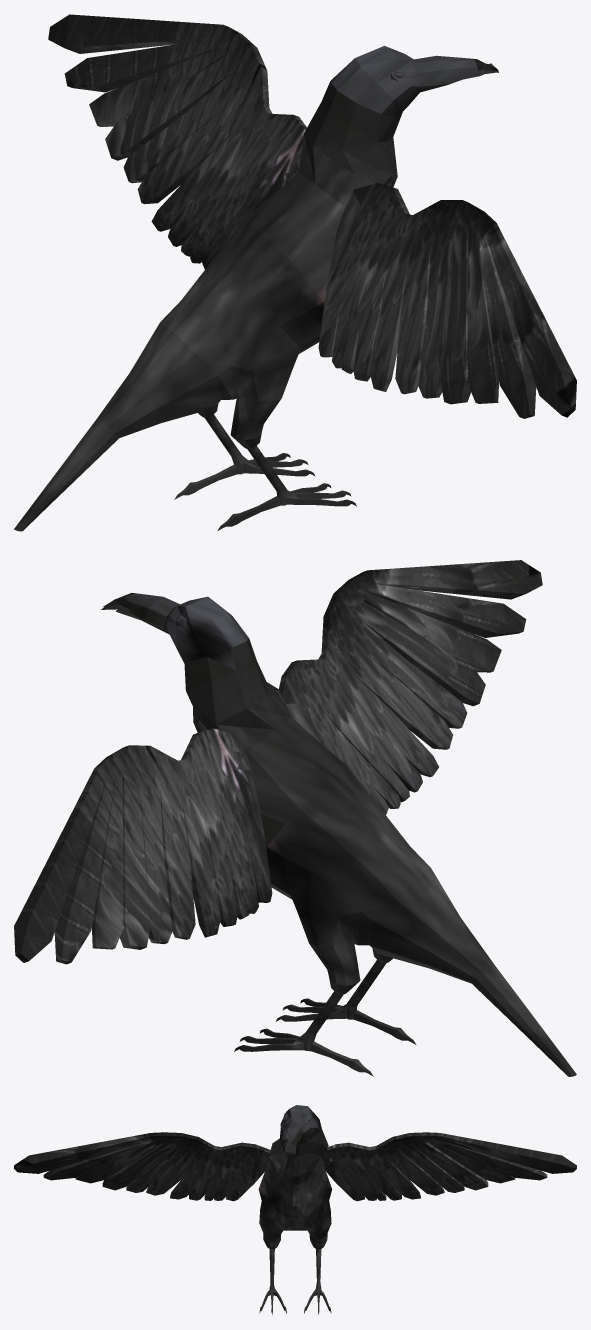
The model's file is three.obj.
3 views of the same model, one above another, from view 1: azimuth 30°, elevation 25°; view 2: azimuth 150°, elevation 25°; view 3: azimuth 270°, elevation 25° (orthographic). The views are drawn at different scales.
Visible parts, largest first — view 1: Cylinder; view 2: Cylinder; view 3: Cylinder.
Boxes of the visible parts, x1=… form: Cylinder: x1=14, y1=14, x2=576, y2=531; Cylinder: x1=14, y1=560, x2=576, y2=1076; Cylinder: x1=14, y1=1105, x2=576, y2=1315.
Bounding box in the file's own units: 0.9941 × 0.8259 × 1.88.
